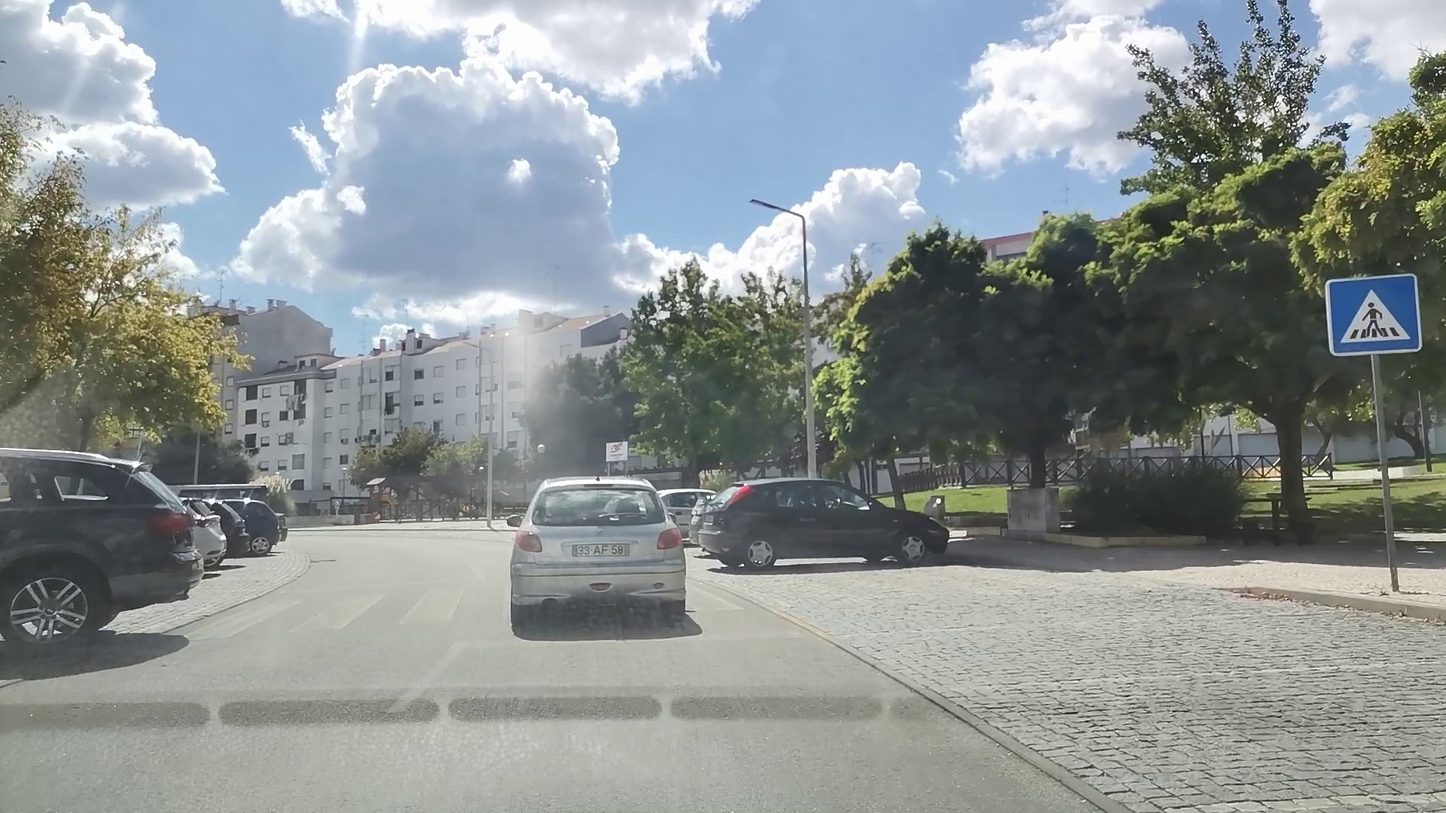Stairs: (194, 580, 471, 637)
